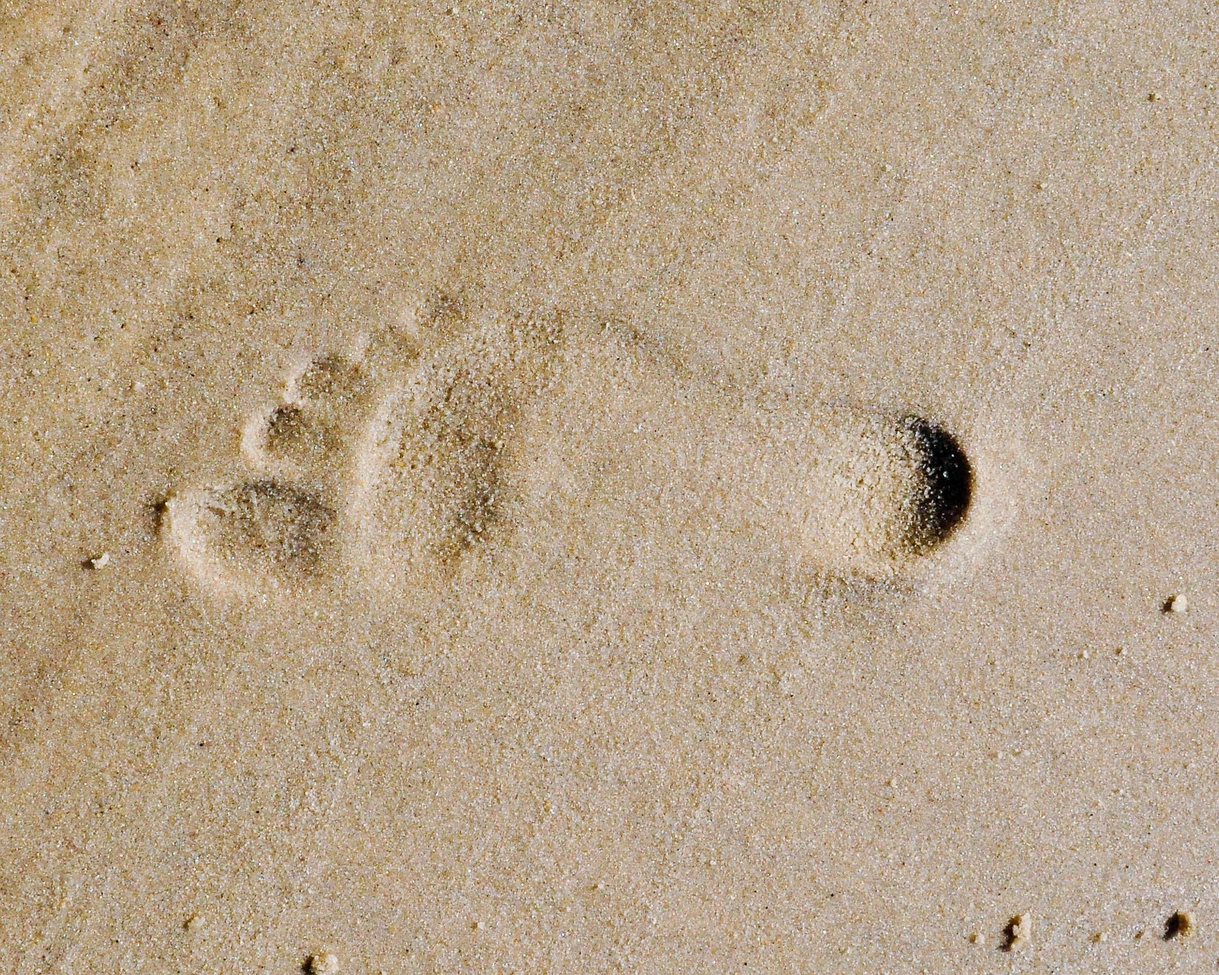human_footprint: (168, 313, 973, 591), (164, 298, 559, 595)
